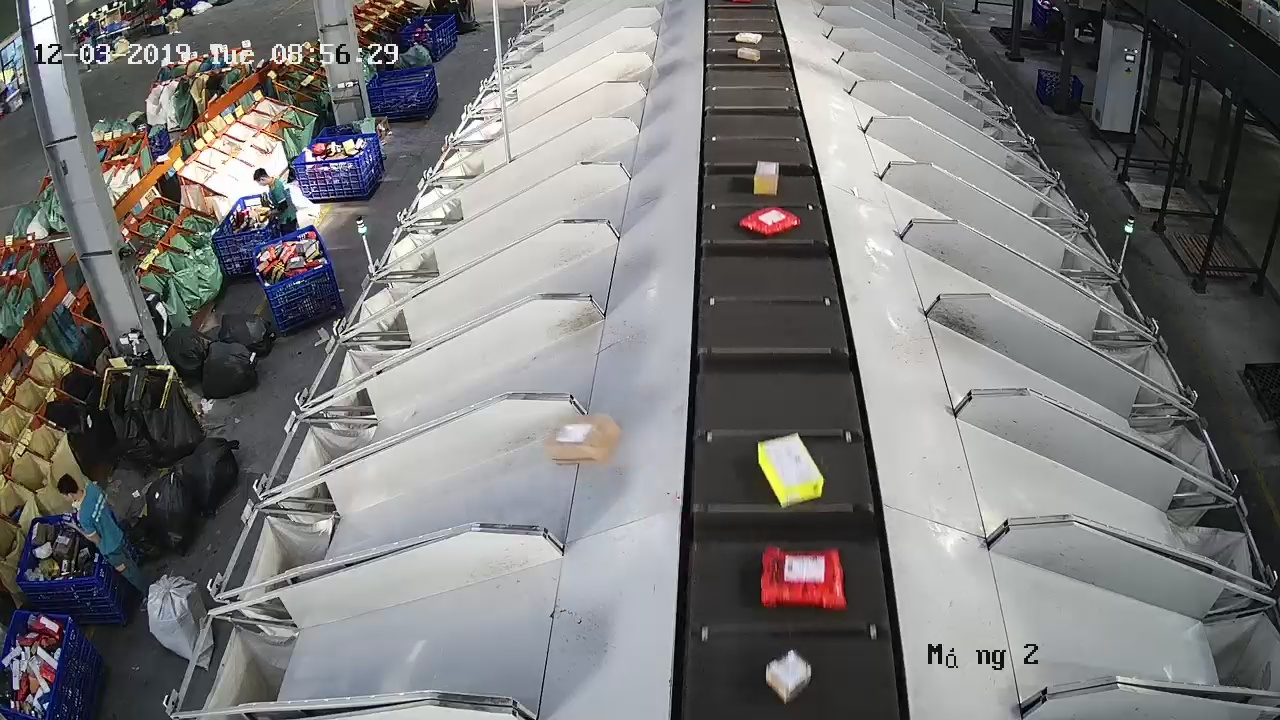parcel: (758, 543, 849, 614), (756, 431, 825, 510), (547, 412, 623, 466), (764, 647, 813, 706), (738, 206, 802, 239), (752, 159, 781, 198)
